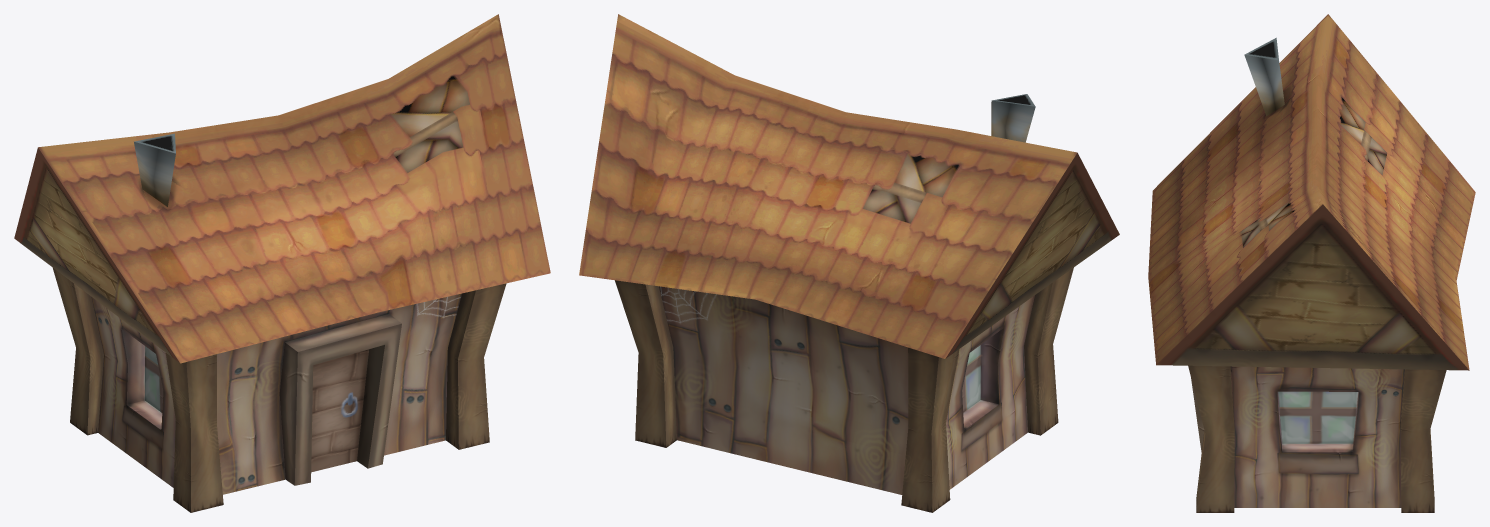
File: CesiumHouse.glb
The picture shows the model from 3 angles, left to right: view 1: azimuth 30°, elevation 25°; view 2: azimuth 150°, elevation 25°; view 3: azimuth 270°, elevation 25°; orthographic projection. The views are drawn at different scales.
Parts seen in each view (by area): view 1: house; view 2: house; view 3: house.
Boxes of the visible parts, <box> form: house: <box>14,14,550,512</box>; house: <box>579,14,1119,512</box>; house: <box>1148,14,1475,512</box>.
Size of the model in its own units: 9.57 by 7.21 by 6.22.
Materials: 1 (1 with a texture image).
